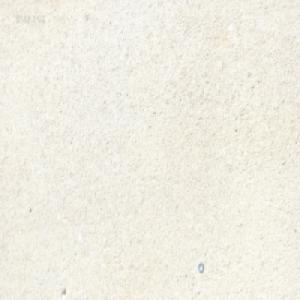Washer: (198, 262, 204, 274)
